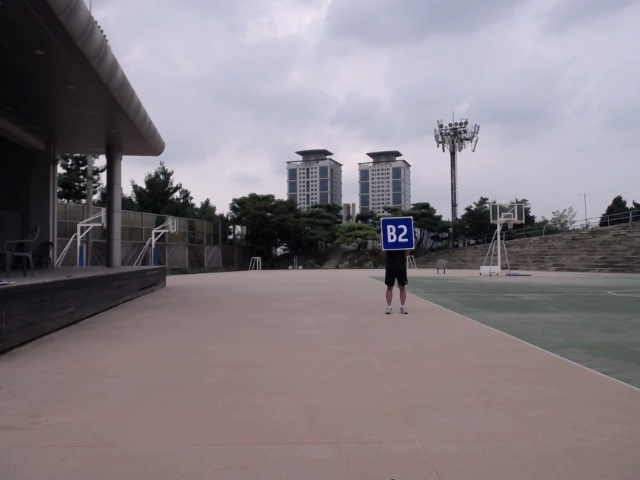delivery_b2: (380, 216, 414, 250)
